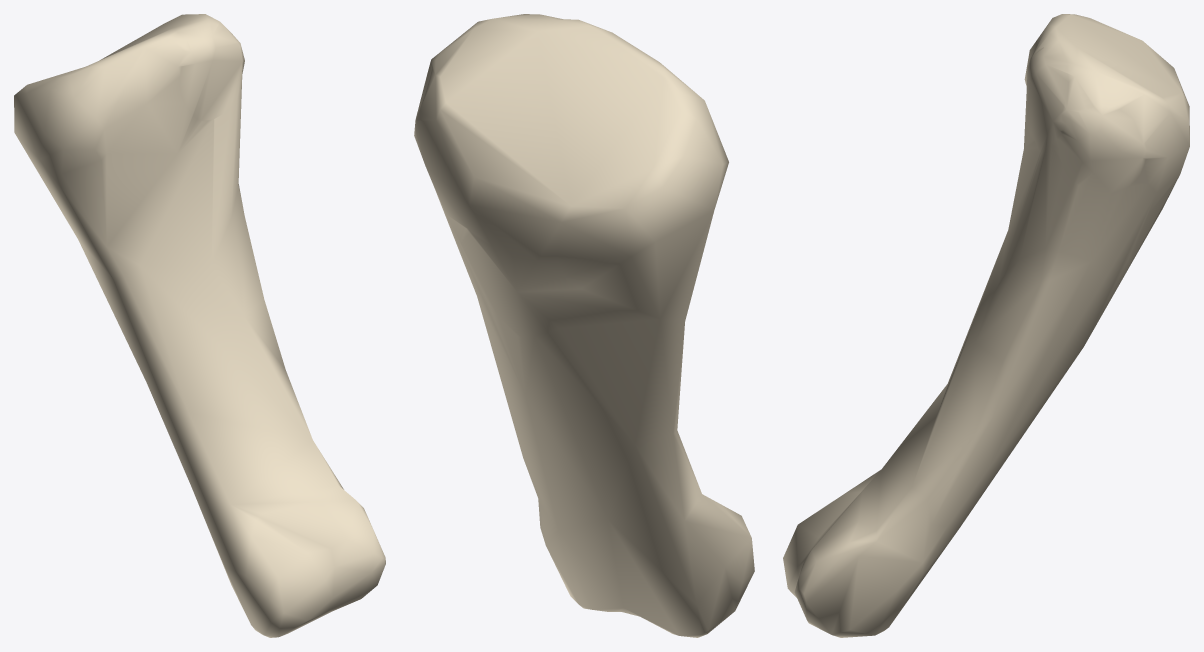
The model's file is proximal-phalanx-of-fifth-finger-of-hand-r.glb.
3 views of the same model, side by side, from view 1: azimuth 30°, elevation 25°; view 2: azimuth 150°, elevation 25°; view 3: azimuth 270°, elevation 25° (orthographic). The views are drawn at different scales.
Parts seen in each view (by area): view 1: Proximal phalanx of fifth finger of hand.r; view 2: Proximal phalanx of fifth finger of hand.r; view 3: Proximal phalanx of fifth finger of hand.r.
Boxes of the visible parts, x1,y1,x2,y2 form: Proximal phalanx of fifth finger of hand.r: (14,14,385,637); Proximal phalanx of fifth finger of hand.r: (414,14,754,637); Proximal phalanx of fifth finger of hand.r: (783,14,1189,637).
Bounding box in the file's own units: 0.0148 × 0.0338 × 0.0216.
